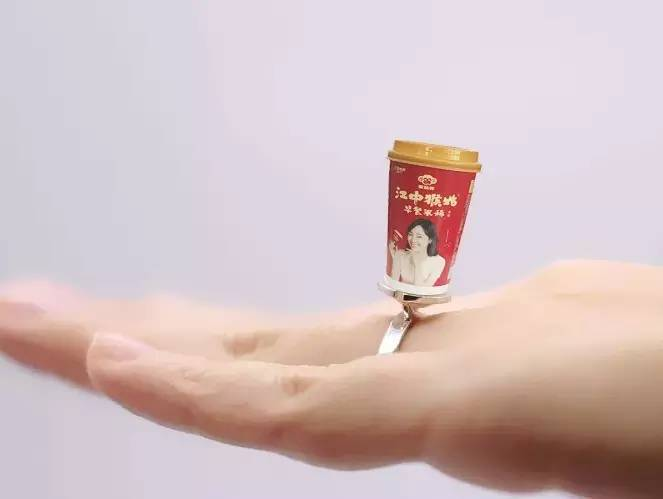cup: (385, 139, 477, 294)
